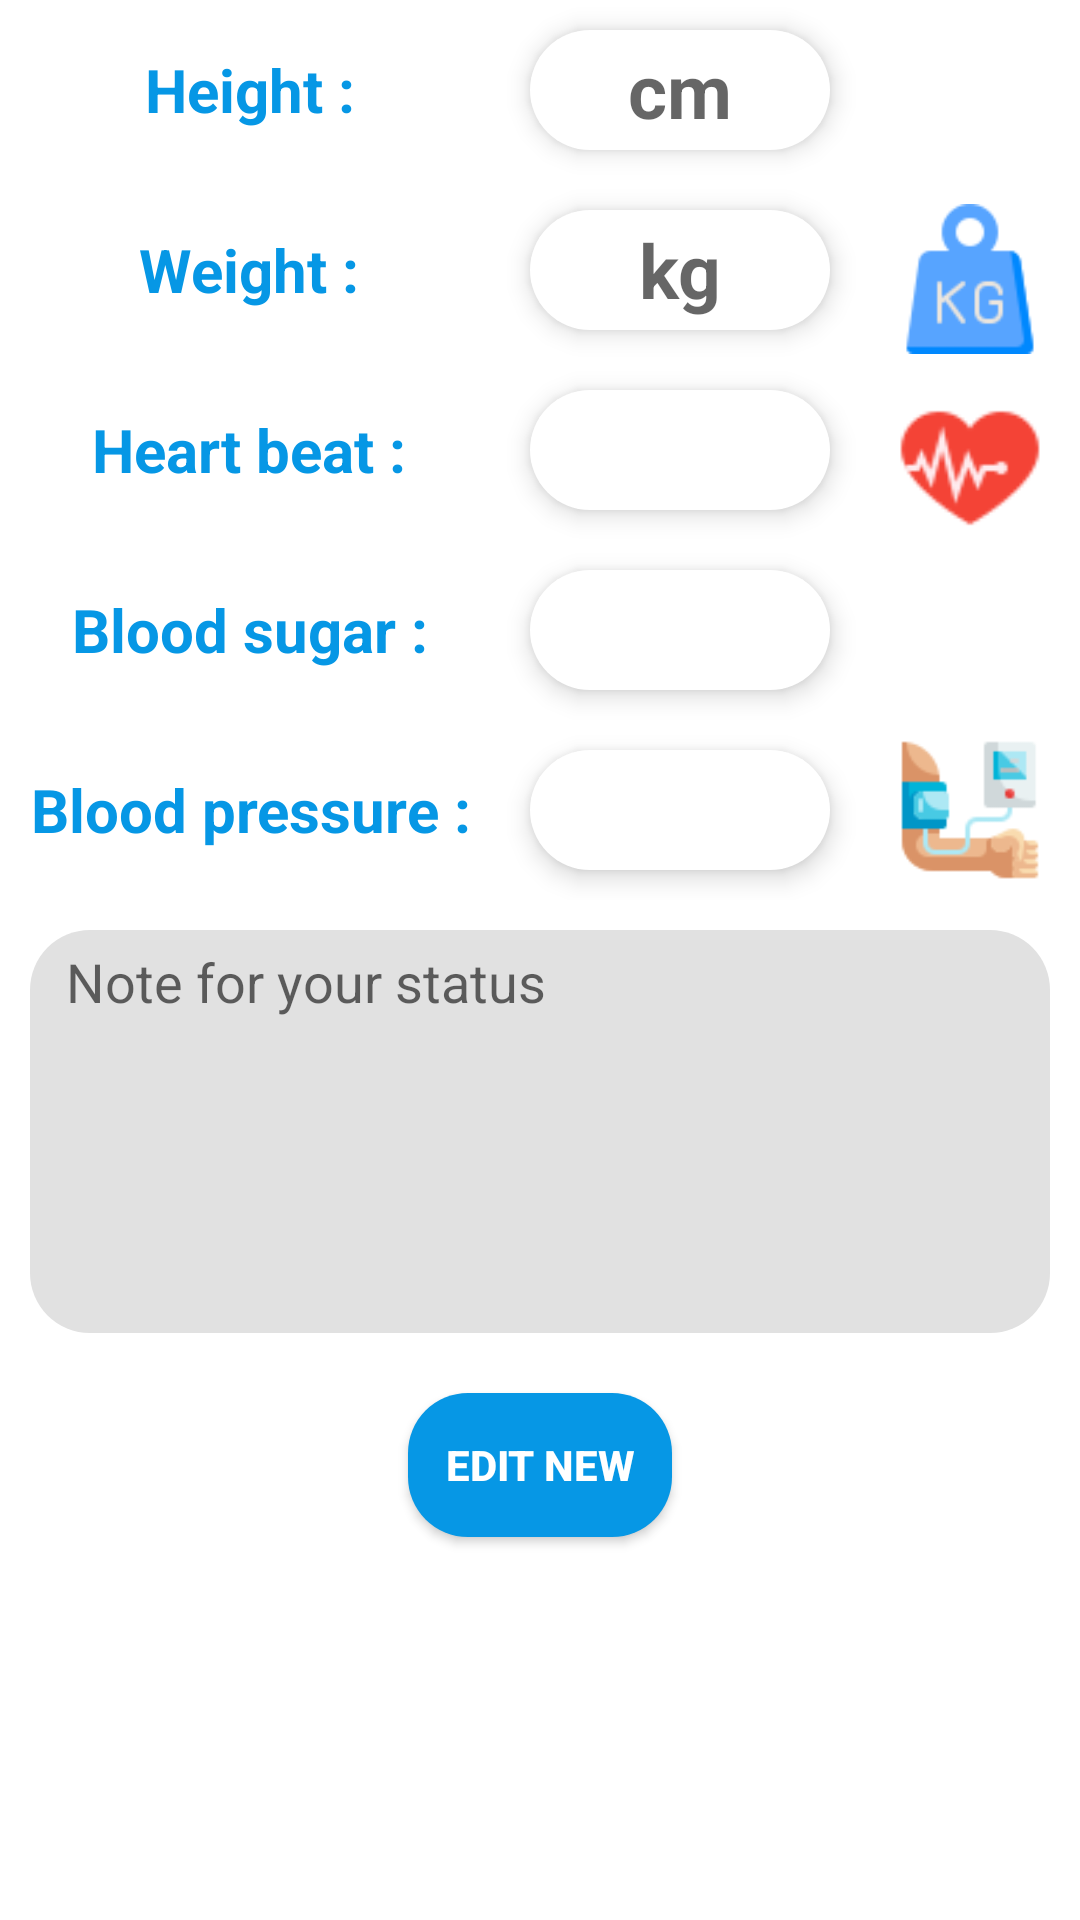

Icon bounding boxes for this 1080 x 1920 phone screenshot, format (x1, y1, x2, y2):
blood pressure: (901, 741, 1039, 879)
heart: (900, 411, 1040, 525)
weight: (906, 204, 1034, 354)
